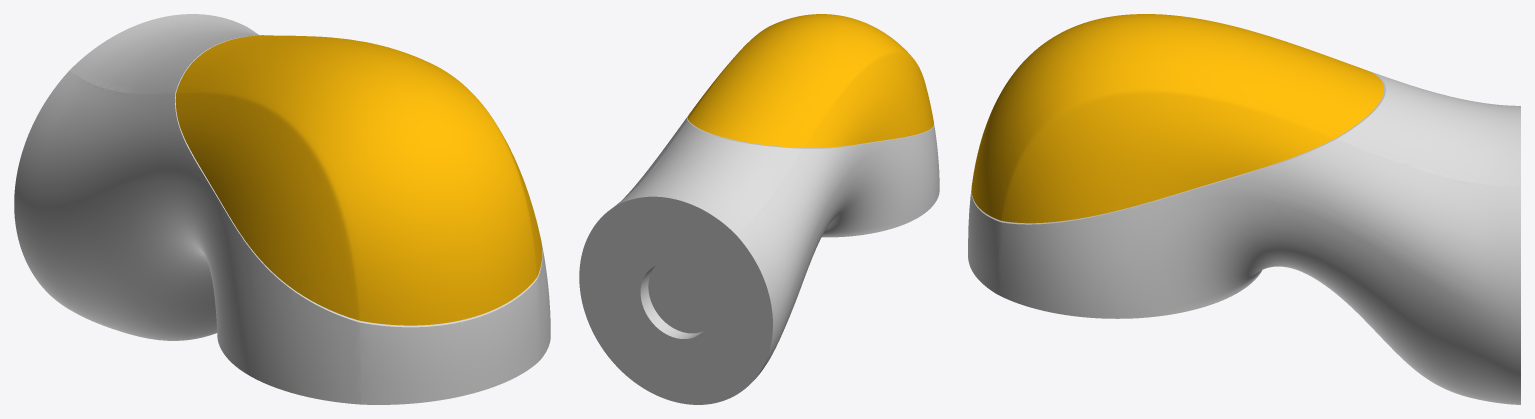
3 views of the same model, side by side, from view 1: azimuth 30°, elevation 25°; view 2: azimuth 150°, elevation 25°; view 3: azimuth 270°, elevation 25° (orthographic). The views are drawn at different scales.
Visible parts, largest first — view 1: node1, node0; view 2: node1, node0; view 3: node1, node0.
Part boxes in pixels (x1=…): node1: x1=14, y1=14, x2=550, y2=404; node0: x1=175, y1=35, x2=542, y2=325; node1: x1=579, y1=116, x2=939, y2=404; node0: x1=688, y1=14, x2=933, y2=147; node1: x1=968, y1=71, x2=1520, y2=404; node0: x1=971, y1=14, x2=1384, y2=223.
Size of the model in its own units: 0.136 by 0.252 by 0.1826.
